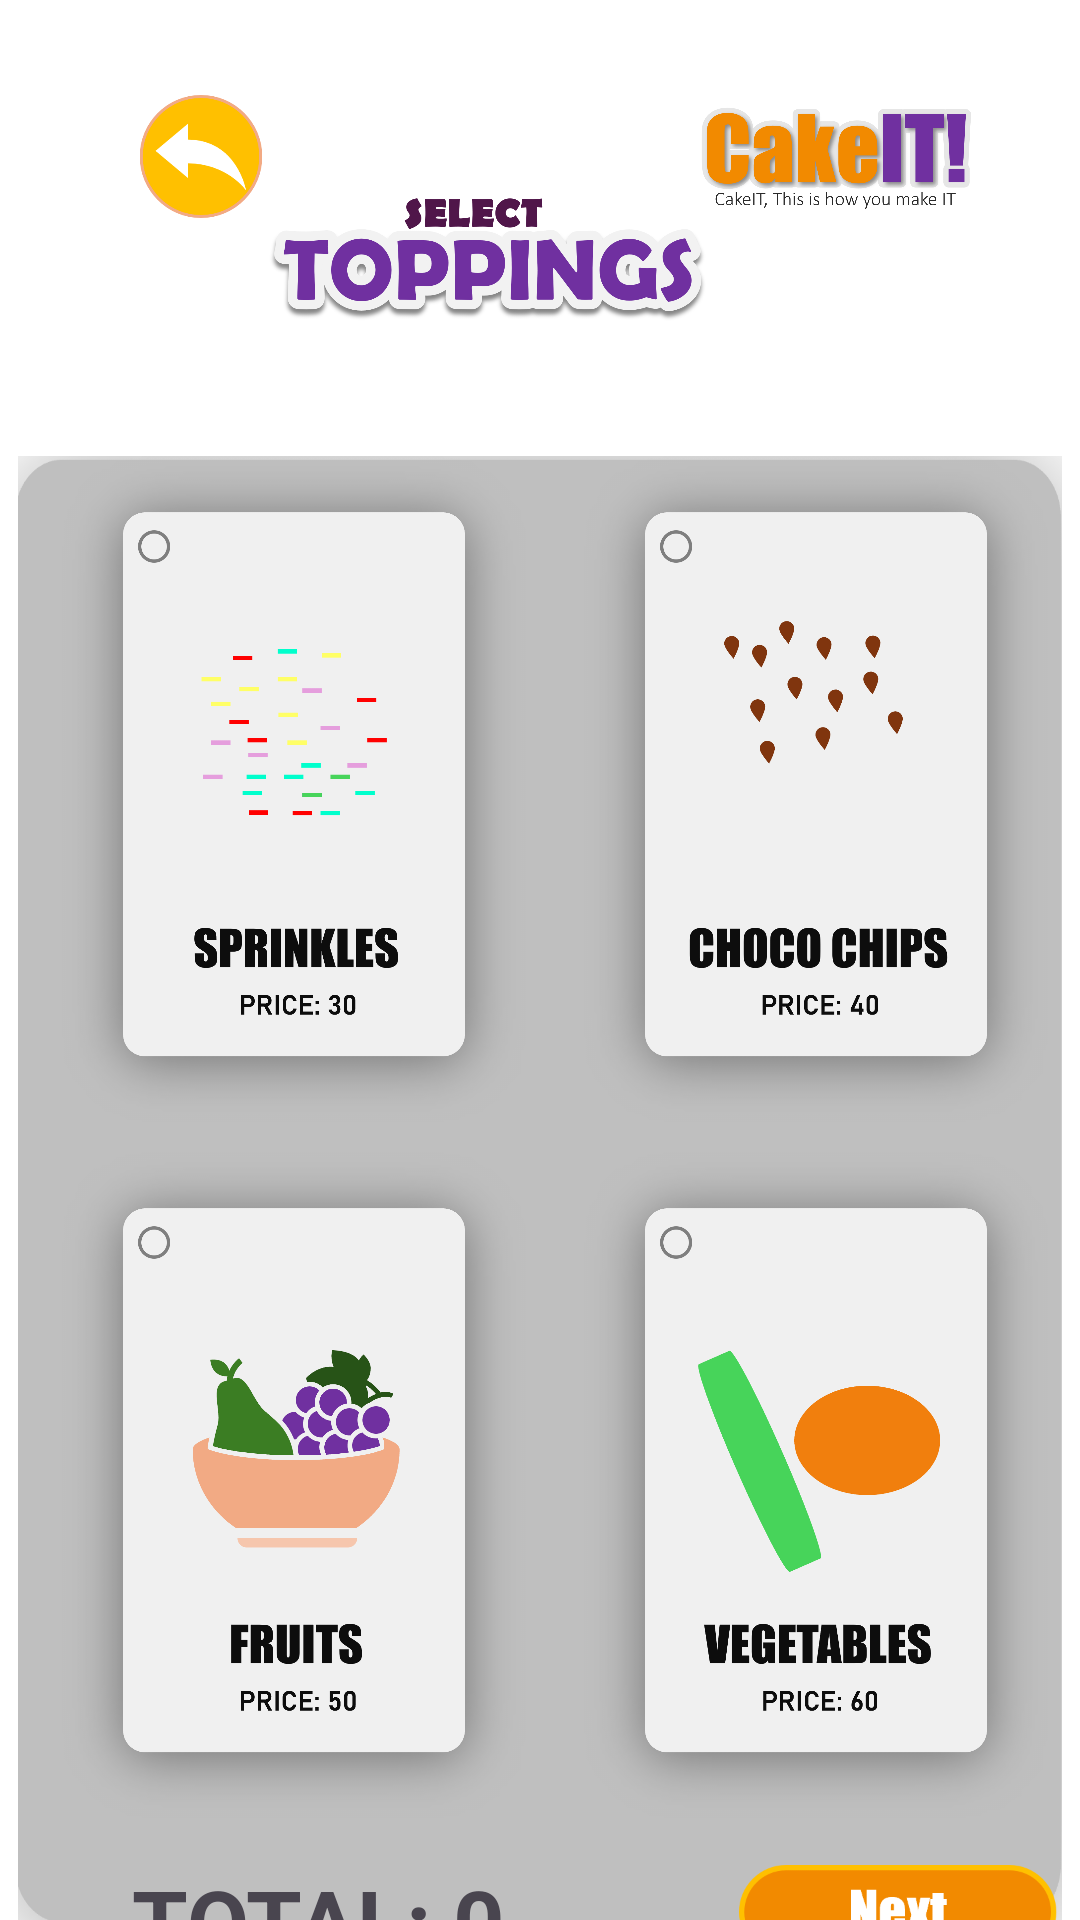

Icon bounding boxes for this 1080px×1920px phone screenshot, format bbox=(x1, y1, x2, y2):
backicon: bbox=(140, 95, 262, 218)
